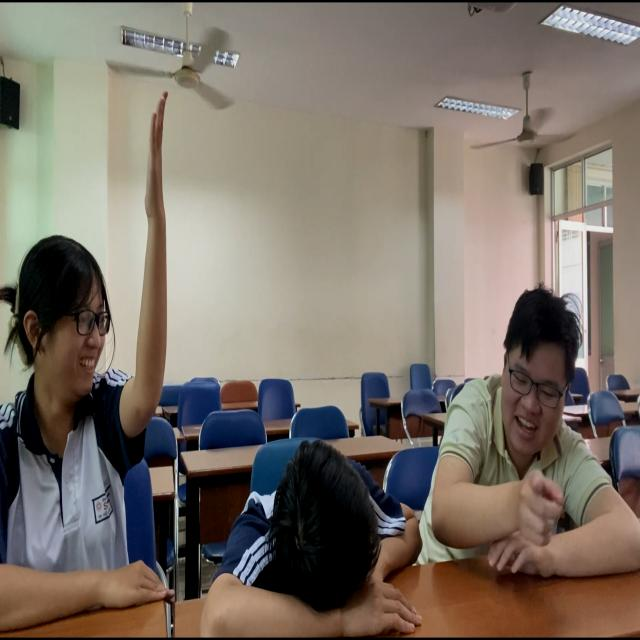raise_hand: (1, 89, 184, 640)
sleep: (203, 431, 428, 640)
